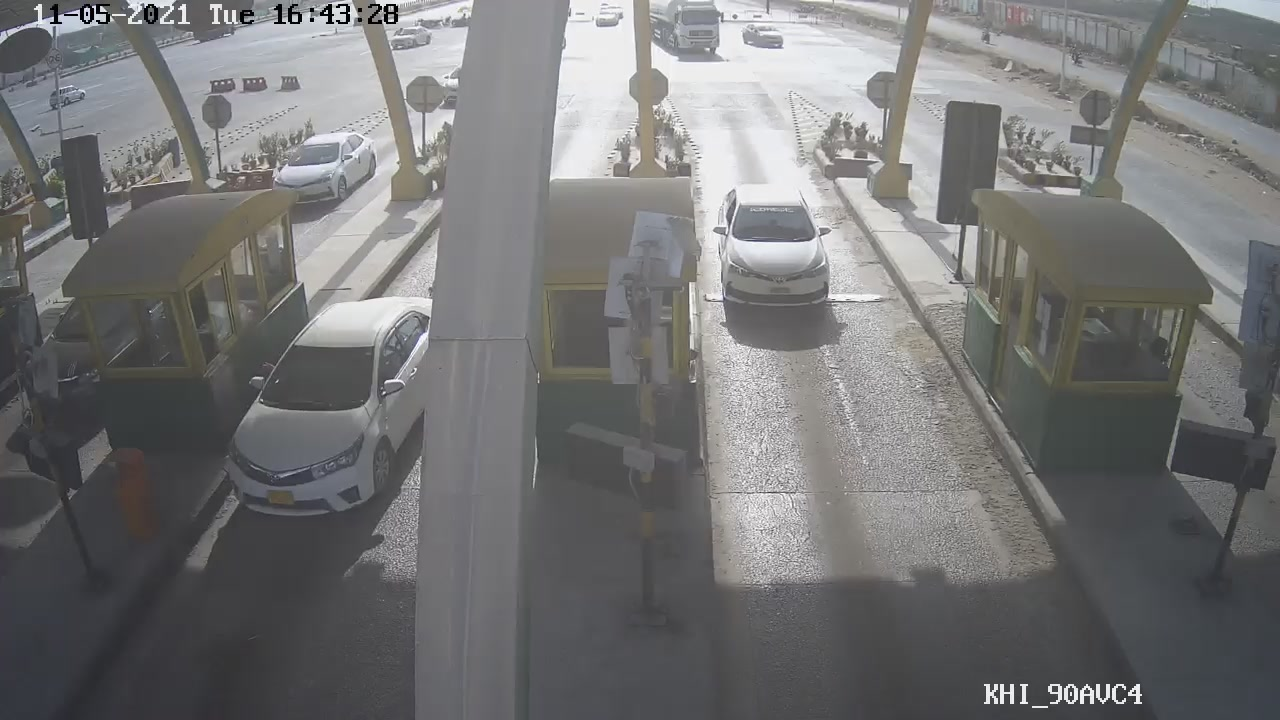F1: (700, 174, 848, 305)
